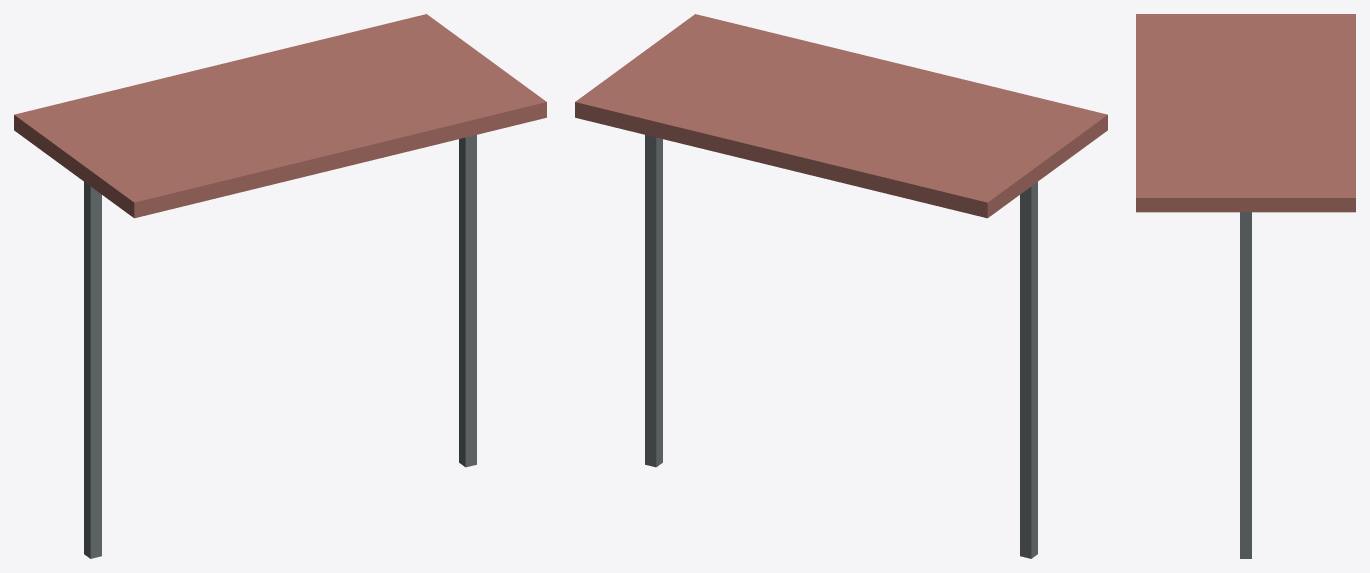
The model's file is iz2_canopy_shop.glb.
3 renders of one model, left to right at view 1: azimuth 30°, elevation 25°; view 2: azimuth 150°, elevation 25°; view 3: azimuth 270°, elevation 25°, orthographic. The views are drawn at different scales.
Visible parts, largest first — view 1: body; view 2: body; view 3: body.
Boxes of the visible parts, left/top/right/bottom form: body: left=14, top=14, right=546, bottom=558; body: left=575, top=14, right=1107, bottom=558; body: left=1136, top=14, right=1355, bottom=558.
Bounding box in the file's own units: 2.2 × 2.04 × 1.11.
